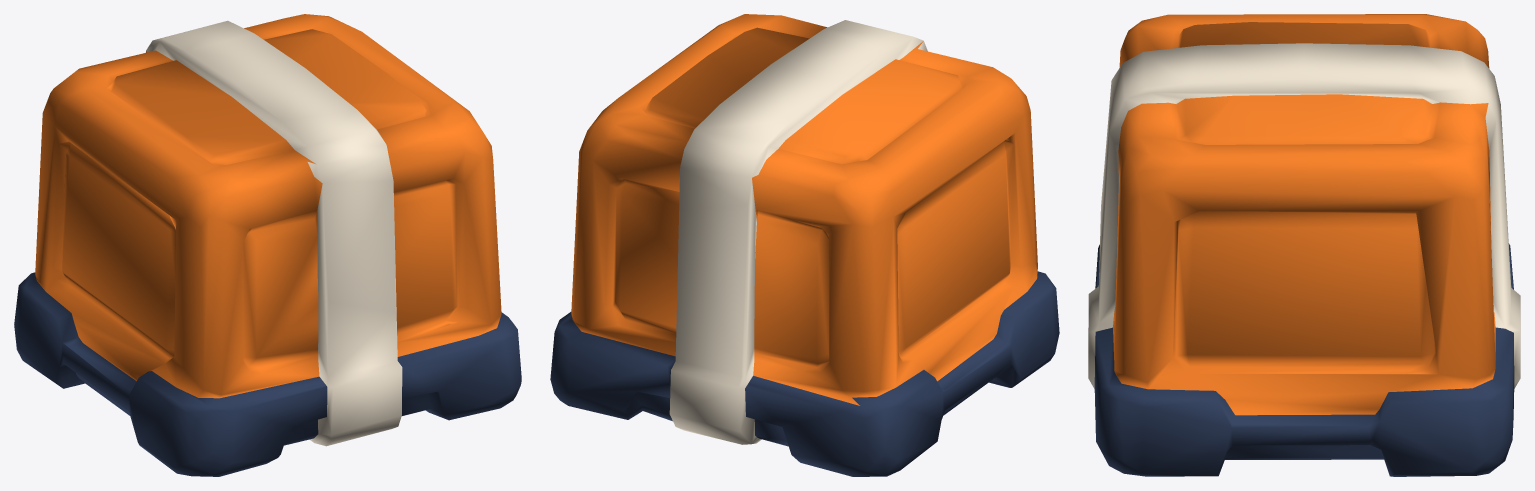
Rendered from orange-cargo-crate_LOD1.glb.
3 renders of one model, left to right at view 1: azimuth 30°, elevation 25°; view 2: azimuth 150°, elevation 25°; view 3: azimuth 270°, elevation 25°, orthographic. The views are drawn at different scales.
Visible parts, largest first — view 1: orange-cargo-crate_LOD1; view 2: orange-cargo-crate_LOD1; view 3: orange-cargo-crate_LOD1.
Boxes of the visible parts, x1,y1,x2,y2 form: orange-cargo-crate_LOD1: [14, 14, 521, 476]; orange-cargo-crate_LOD1: [550, 14, 1059, 476]; orange-cargo-crate_LOD1: [1088, 14, 1520, 476].
Bounding box in the file's own units: 1.07 × 0.8995 × 1.07.
Materials: 1 (1 with a texture image).
